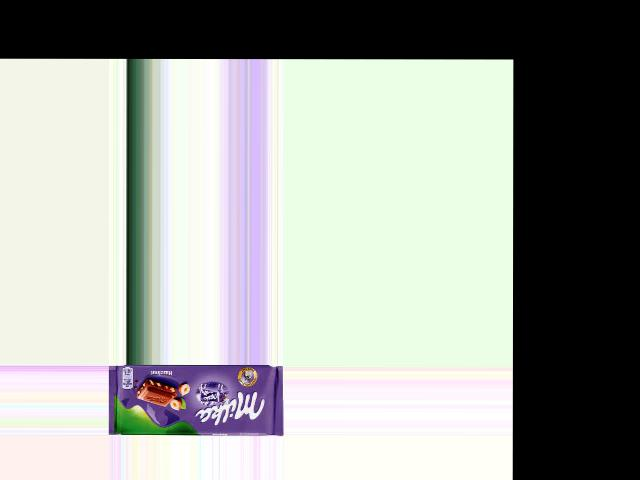chocolate: (107, 364, 283, 435)
